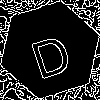D: (25, 25, 75, 80)
